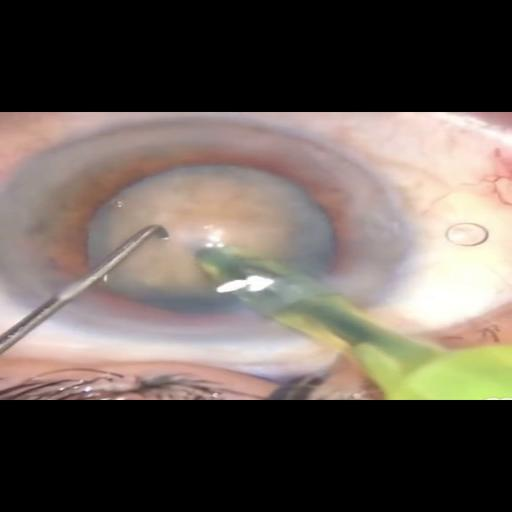catarata: (89, 164, 334, 315)
cornea: (0, 116, 436, 344)
pupil: (48, 140, 353, 322)
